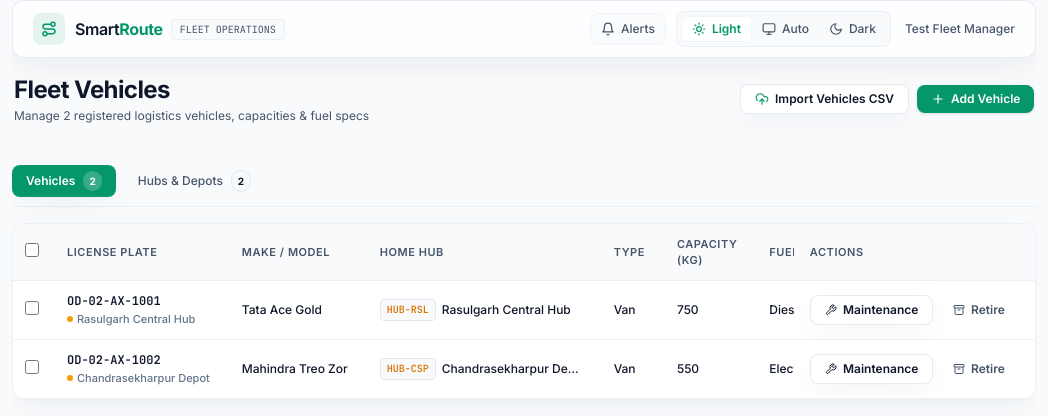
Test case: FleetsPage Hubs Management (D-02, D-04) › switches between Vehicles and Hubs & Depots tabs
Expected: the text "OD-02-AX-1001" is shown, [67,293,161,309]
Expected: the button with test id "tab-vehicles" is shown, [12,165,116,197]
// Switch to Hubs & Depots tab
Click the button with test id "tab-hubs".
click(194, 181)  # box [124,164,265,198]
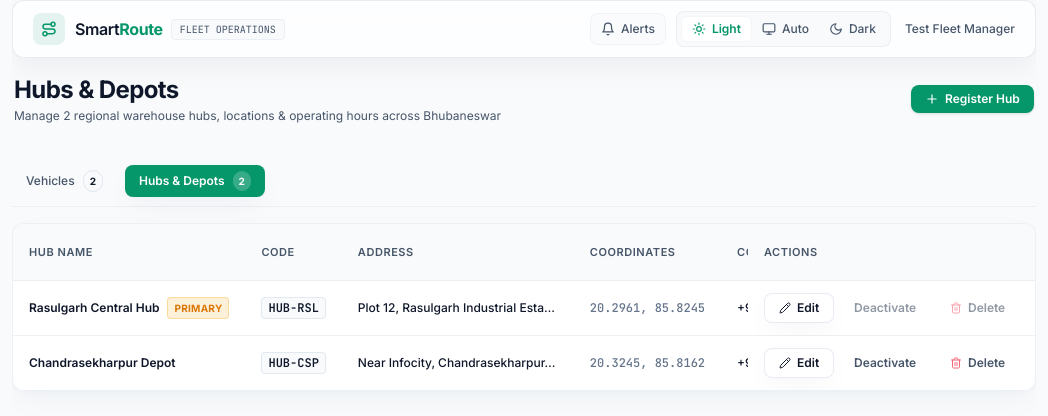
Expected: the text "Rasulgarh Central Hub" is shown, [29,300,160,316]
Now the text "Primary" is shown, box [168,297,230,319]
// Switch back to Vehicles tab
Click the button with test id "tab-vehicles".
click(64, 181)  # box [12,164,117,198]
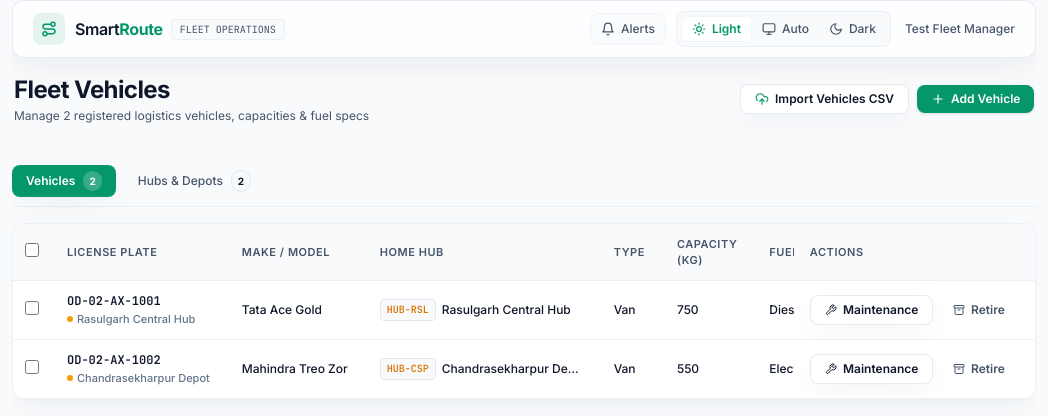
Now the text "OD-02-AX-1001" is shown, box [67,293,161,309]
